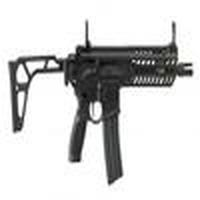gun: (5, 36, 200, 152)
